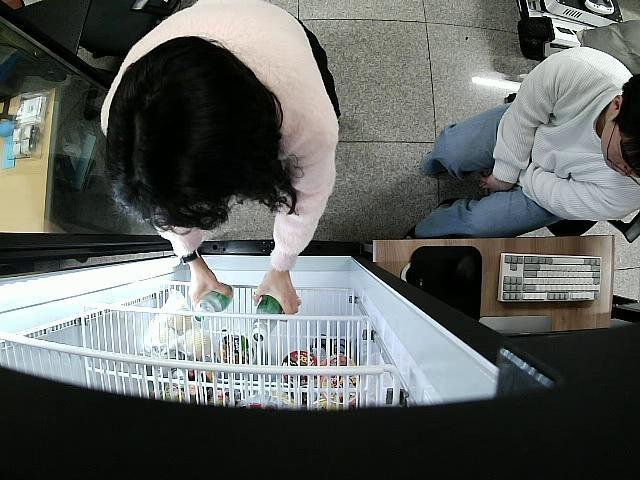18_trevi: (195, 284, 232, 326), (252, 299, 281, 346)
